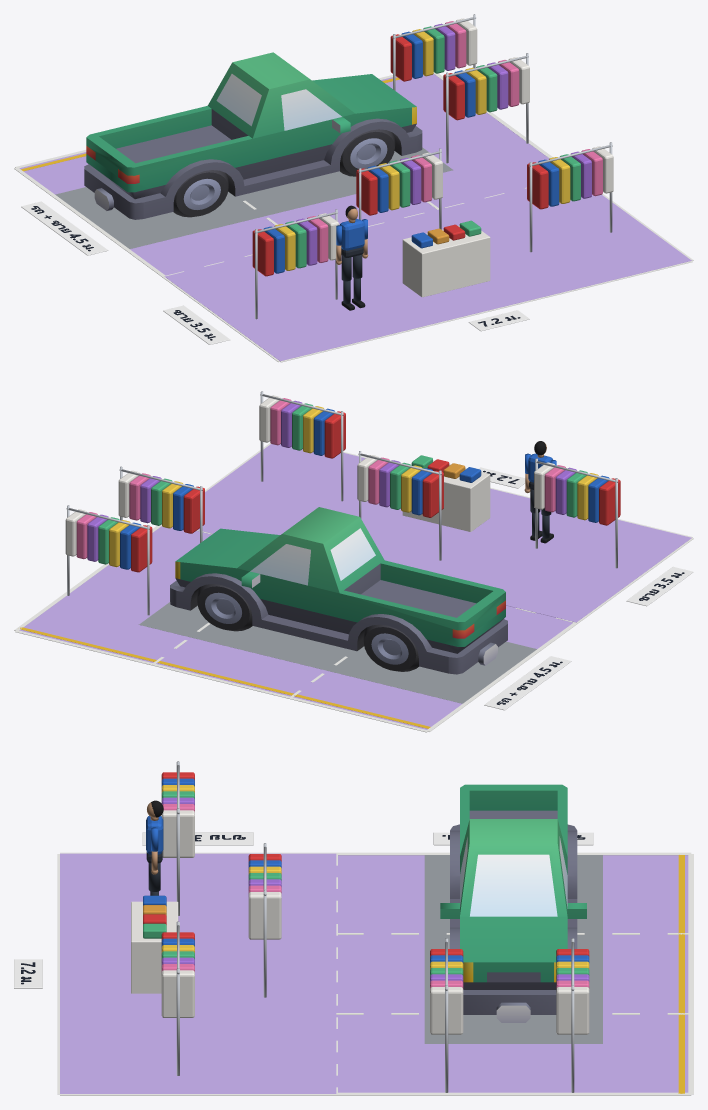
The model's file is lot-boot-3.glb.
3 renders of one model, top to bottom at view 1: azimuth 30°, elevation 25°; view 2: azimuth 150°, elevation 25°; view 3: azimuth 270°, elevation 25°, orthographic. The views are drawn at different scales.
Parts seen in each view (by area): view 1: Cube, body, Cube.071, Cube.072, Cube.048, wheel-back-right, wheel-front-right, Cube.089, Cube.002, Cube.088, Cube.001, Cube.041 (+24 smaller); view 2: Cube, body, Cube.071, Cube.072, Cube.048, wheel-front-left, wheel-back-left, Cube.040, Cube.004, Cube.089, Cube.002, Cube.088 (+33 smaller); view 3: Cube, Cube.071, body, Cube.072, Cube.048, Cube.003, Cube.040, Cube.059, Cube.086, Cube.066, Cube.079, Cube.004 (+5 smaller).
Part boxes in pixels (left/top/right/bottom): Cube: left=165, top=188, right=691, bottom=361; body: left=84, top=52, right=422, bottom=219; Cube.071: left=19, top=74, right=549, bottom=275; Cube.072: left=55, top=147, right=453, bottom=248; Cube.048: left=402, top=225, right=490, bottom=297; wheel-back-right: left=173, top=170, right=228, bottom=217; wheel-front-right: left=340, top=129, right=395, bottom=176; Cube.089: left=21, top=201, right=108, bottom=255; Cube.002: left=14, top=167, right=279, bottom=361; Cube.088: left=163, top=305, right=230, bottom=344; Cube.001: left=280, top=261, right=692, bottom=362; Cube.041: left=252, top=229, right=273, bottom=276; Cube: left=198, top=444, right=691, bottom=622; body: left=170, top=507, right=507, bottom=674; Cube.071: left=19, top=526, right=572, bottom=729; Cube.072: left=139, top=602, right=536, bottom=703; Cube.048: left=402, top=460, right=490, bottom=531; wheel-front-left: left=197, top=584, right=252, bottom=631; wheel-back-left: left=363, top=624, right=418, bottom=671; Cube.040: left=20, top=627, right=430, bottom=728; Cube.004: left=15, top=630, right=427, bottom=732; Cube.089: left=484, top=656, right=571, bottom=710; Cube.002: left=426, top=538, right=693, bottom=731; Cube.088: left=626, top=566, right=693, bottom=606; Cube: left=60, top=853, right=336, bottom=1093; Cube.071: left=336, top=855, right=688, bottom=1092; body: left=440, top=784, right=586, bottom=1022; Cube.072: left=424, top=855, right=602, bottom=1043; Cube.048: left=131, top=901, right=178, bottom=993; Cube.003: left=60, top=1092, right=691, bottom=1095; Cube.040: left=678, top=855, right=684, bottom=1093; Cube.059: left=248, top=892, right=281, bottom=939; Cube.086: left=556, top=987, right=589, bottom=1034; Cube.066: left=161, top=970, right=194, bottom=1017; Cube.079: left=430, top=987, right=463, bottom=1034; Cube.004: left=688, top=854, right=693, bottom=1094.
Size of the model in its own units: 7.87 by 1.8 by 8.62.
Materials: 24 (1 with a texture image).
